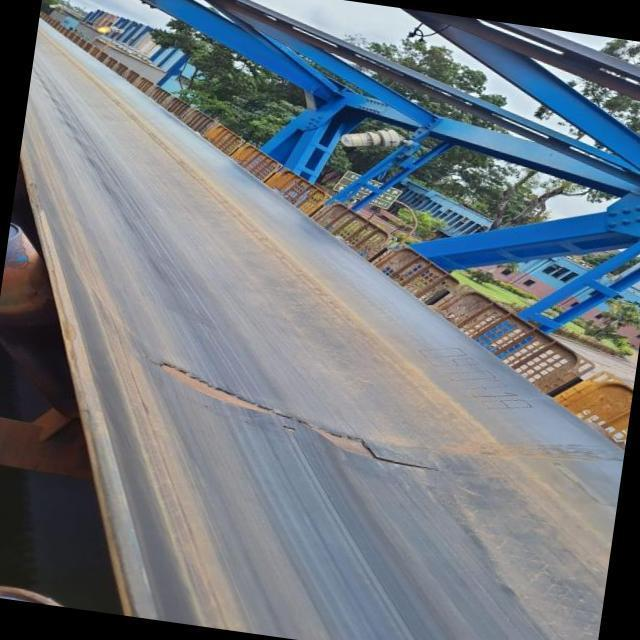Tear: (144, 354, 446, 479)
